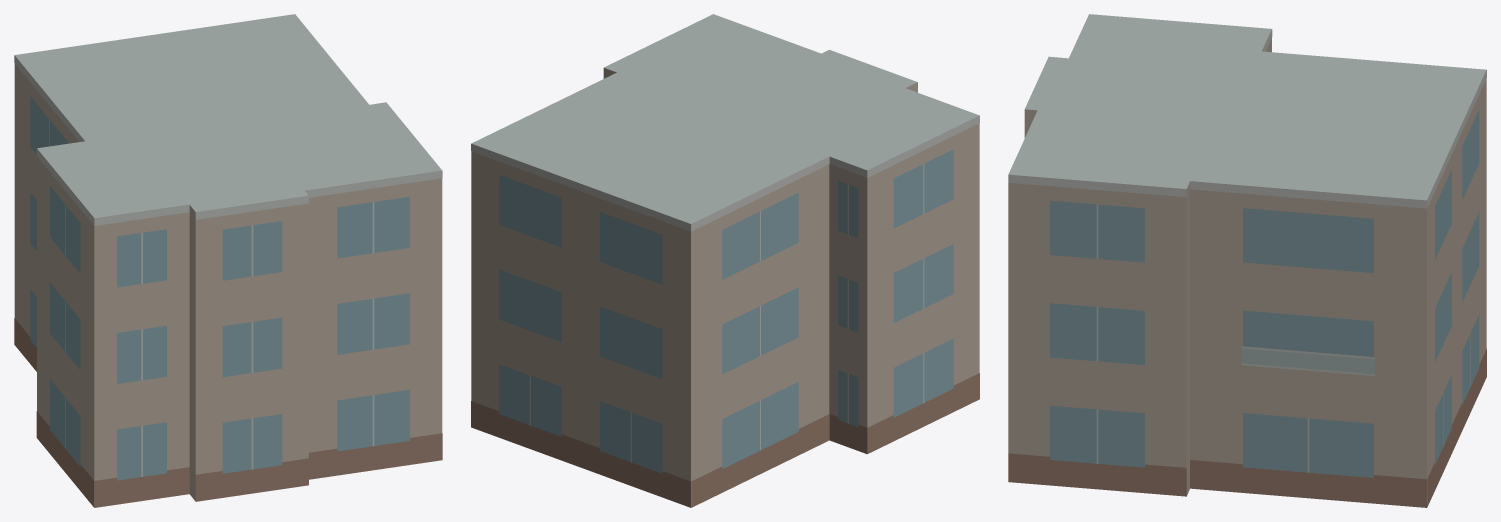
The model's file is survey-upis-32806847.glb.
The picture shows the model from 3 angles, left to right: view 1: azimuth 30°, elevation 25°; view 2: azimuth 150°, elevation 25°; view 3: azimuth 270°, elevation 25°; orthographic projection. The views are drawn at different scales.
Parts seen in each view (by area): view 1: survey-upis-32806847.tmp; view 2: survey-upis-32806847.tmp; view 3: survey-upis-32806847.tmp.
Boxes of the visible parts, x1=… form: survey-upis-32806847.tmp: x1=14, y1=14, x2=442, y2=507; survey-upis-32806847.tmp: x1=471, y1=14, x2=979, y2=507; survey-upis-32806847.tmp: x1=1008, y1=14, x2=1486, y2=507.
Bounding box in the file's own units: 11.91 × 9.15 × 12.92.
